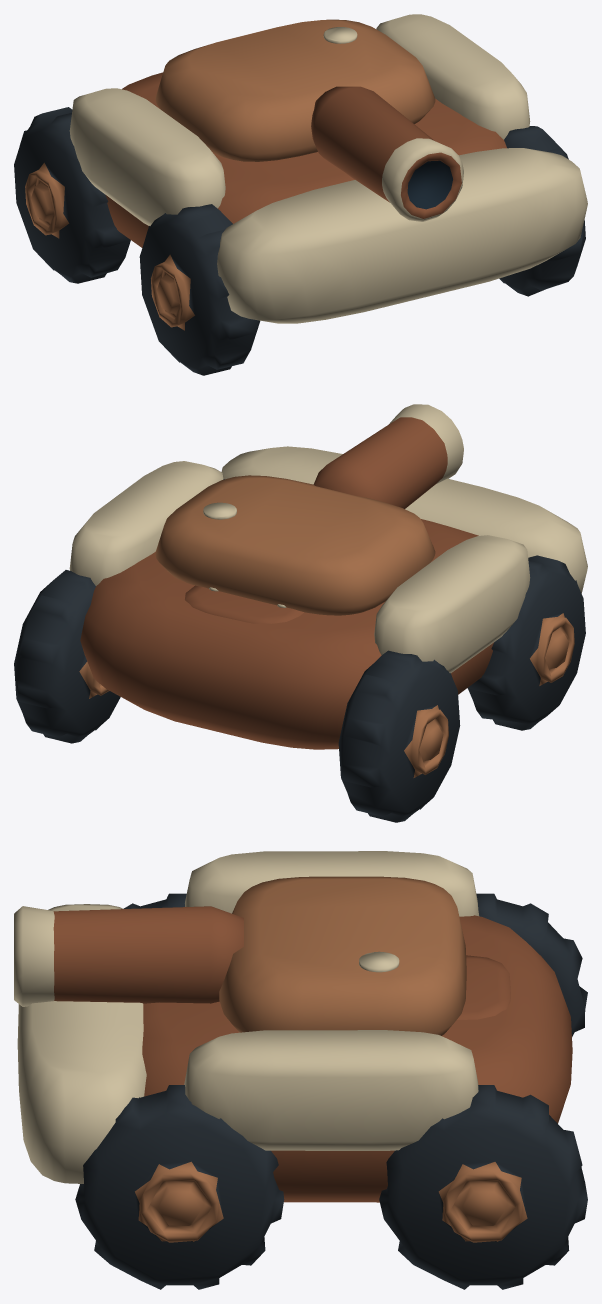
The model's file is TOY_ROOKIE.lo.glb.
3 views of the same model, one above another, from view 1: azimuth 30°, elevation 25°; view 2: azimuth 150°, elevation 25°; view 3: azimuth 270°, elevation 25° (orthographic). The views are drawn at different scales.
Visible parts, largest first — view 1: Body, TurretYaw, WheelsFront, BarrelRecoil, WheelsRear; view 2: Body, TurretYaw, WheelsRear, WheelsFront, BarrelRecoil; view 3: Body, WheelsRear, TurretYaw, WheelsFront, BarrelRecoil.
Part boxes in pixels (left/top/right/bottom): Body: left=69, top=14, right=587, bottom=323; TurretYaw: left=155, top=19, right=435, bottom=161; WheelsFront: left=139, top=126, right=585, bottom=375; BarrelRecoil: left=311, top=86, right=463, bottom=221; WheelsRear: left=14, top=107, right=130, bottom=283; Body: left=69, top=446, right=587, bottom=749; TurretYaw: left=155, top=475, right=435, bottom=615; WheelsRear: left=14, top=570, right=460, bottom=822; WheelsFront: left=223, top=479, right=585, bottom=730; BarrelRecoil: left=313, top=404, right=463, bottom=508; Body: left=17, top=851, right=572, bottom=1202; WheelsRear: left=379, top=893, right=587, bottom=1289; TurretYaw: left=219, top=876, right=466, bottom=1035; WheelsFront: left=75, top=893, right=284, bottom=1289; BarrelRecoil: left=14, top=906, right=243, bottom=1006.
Size of the model in its own units: 0.7551 by 0.4168 by 0.786.
